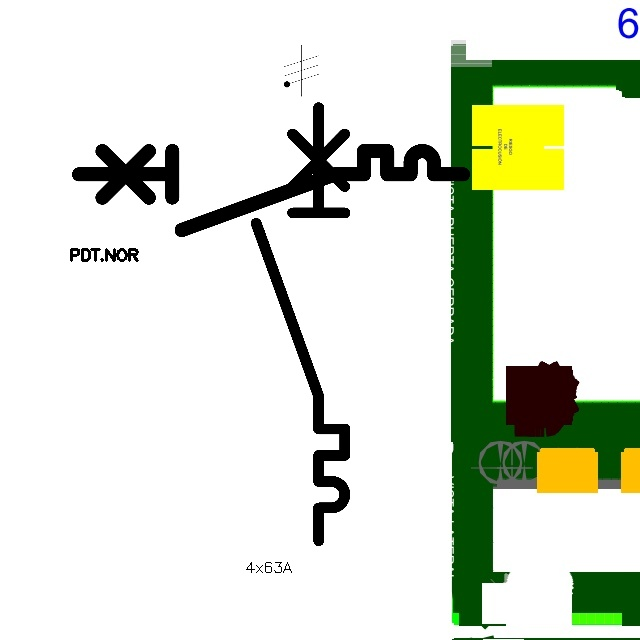interruptor_termomagnetico: (245, 96, 356, 551), (69, 141, 473, 240)
